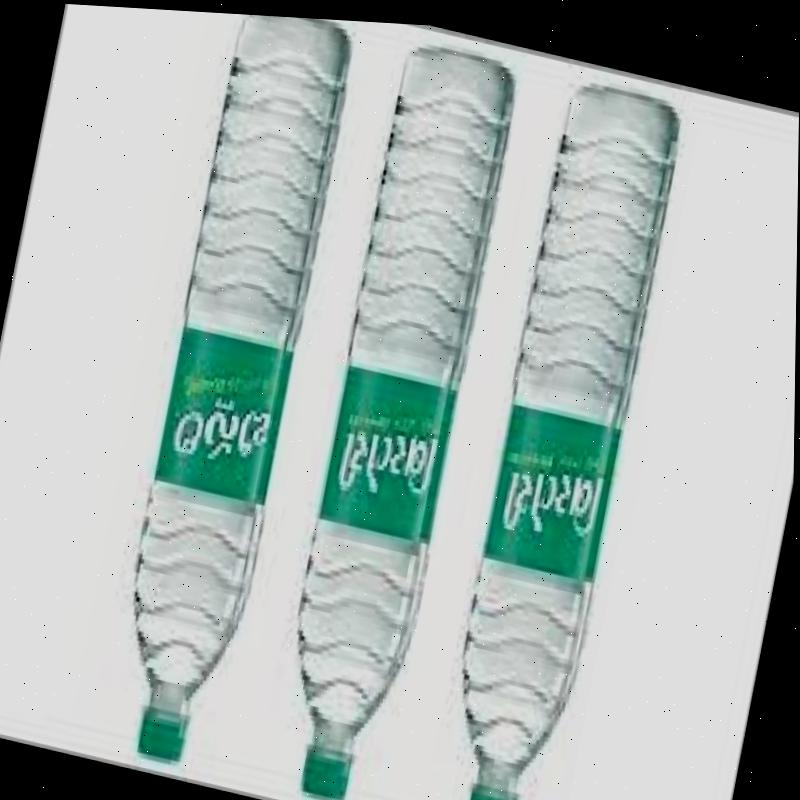botella: (98, 5, 359, 781), (265, 32, 524, 800), (431, 61, 690, 800)
